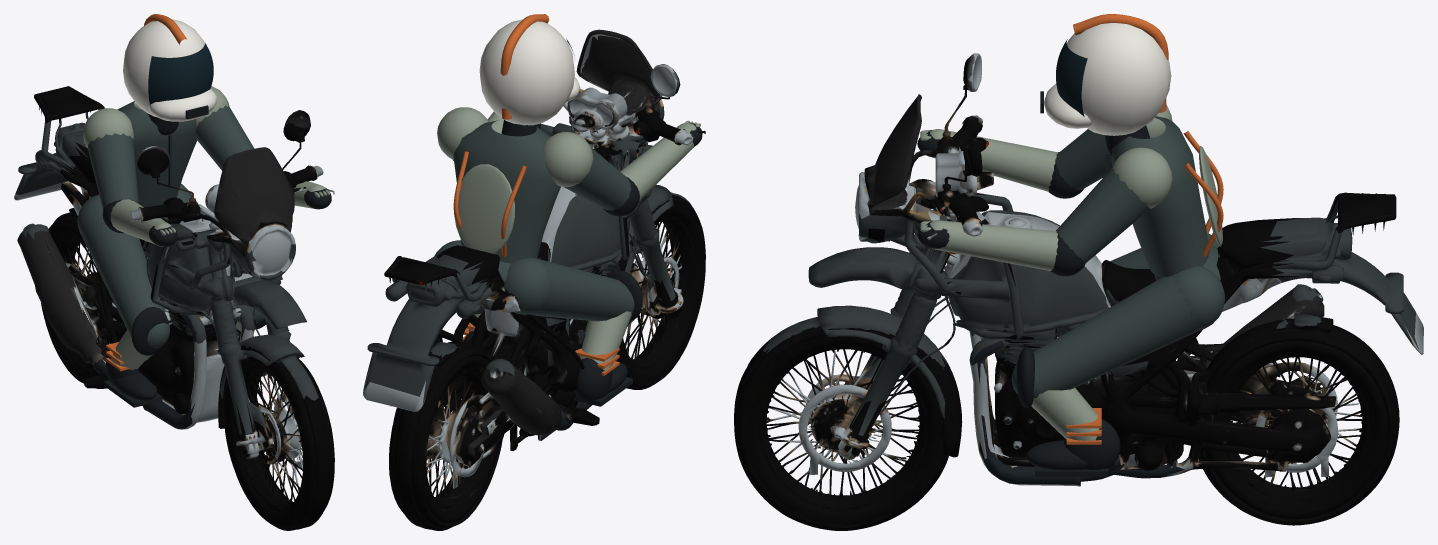
File: himalayan.glb
3 views of the same model, side by side, from view 1: azimuth 30°, elevation 25°; view 2: azimuth 150°, elevation 25°; view 3: azimuth 270°, elevation 25° (orthographic). The views are drawn at different scales.
Parts seen in each view (by area): view 1: BikeBody, Rider, WheelFront, WheelRear; view 2: BikeBody, Rider, WheelRear, WheelFront; view 3: BikeBody, Rider, WheelFront, WheelRear.
Part boxes in pixels (<box>): BikeBody: <box>14,86,334,458</box>; Rider: <box>77,14,331,407</box>; WheelFront: <box>219,346,334,530</box>; WheelRear: <box>41,208,114,388</box>; BikeBody: <box>363,29,705,488</box>; Rider: <box>434,14,702,406</box>; WheelRear: <box>389,347,502,530</box>; WheelFront: <box>617,195,705,389</box>; BikeBody: <box>741,53,1423,508</box>; Rider: <box>917,14,1225,476</box>; WheelFront: <box>734,326,962,530</box>; WheelRear: <box>1200,316,1399,525</box>.
Bounding box in the file's own units: 0.8427 × 1.78 × 2.18.
Materials: 13 (1 with a texture image).
